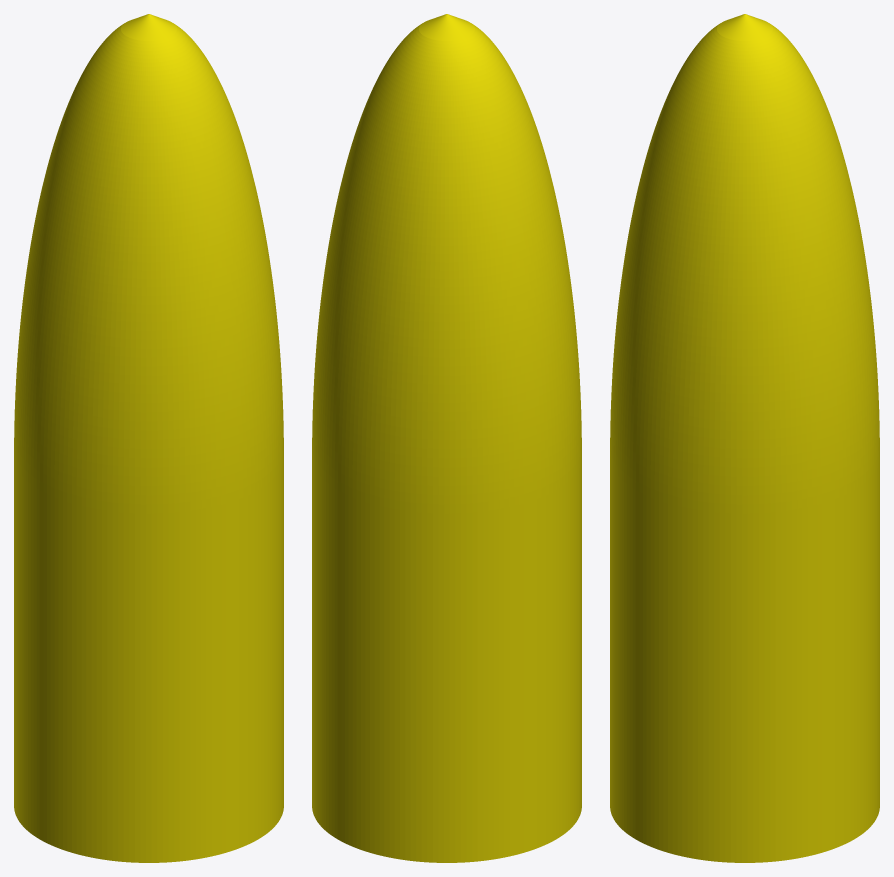
The model's file is Bullet.556.fbx.
The picture shows the model from 3 angles, left to right: view 1: azimuth 30°, elevation 25°; view 2: azimuth 150°, elevation 25°; view 3: azimuth 270°, elevation 25°; orthographic projection.
Visible parts, largest first — view 1: Sphere; view 2: Sphere; view 3: Sphere.
Part boxes in pixels (box(x1,y1,x2,y2)): Sphere: box(14, 14, 283, 862); Sphere: box(312, 14, 581, 862); Sphere: box(610, 14, 879, 862).
Bounding box in the file's own units: 14 × 45.31 × 14.
